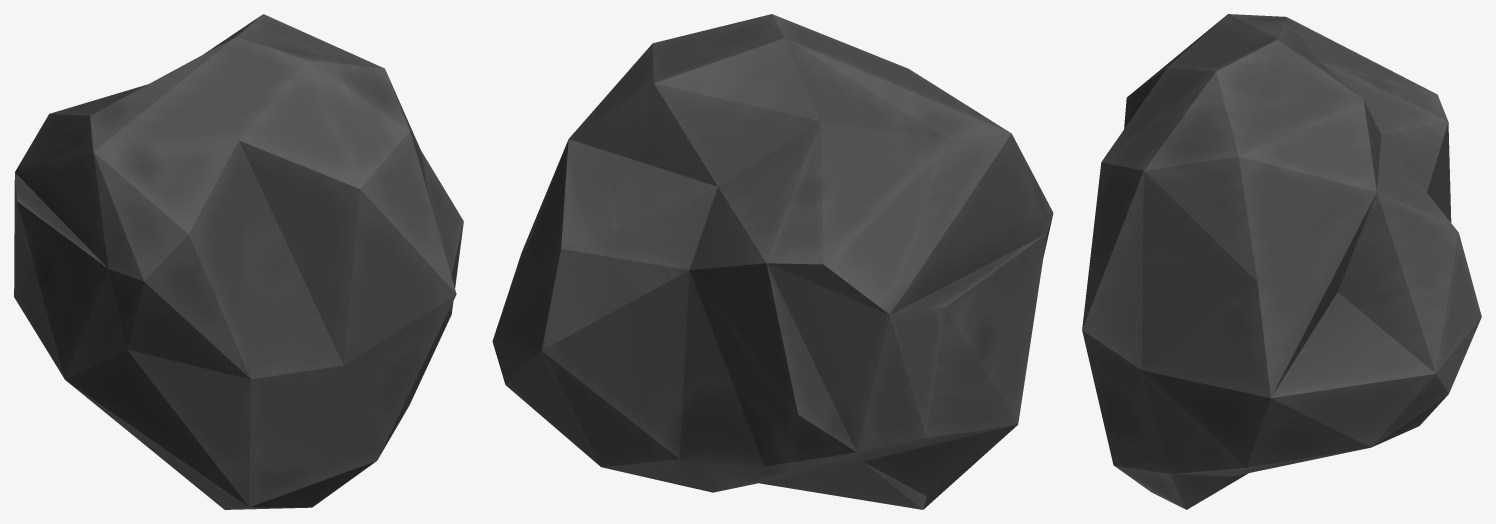
Rendered from rock_9.obj.
3 renders of one model, left to right at view 1: azimuth 30°, elevation 25°; view 2: azimuth 150°, elevation 25°; view 3: azimuth 270°, elevation 25°, orthographic. The views are drawn at different scales.
Parts seen in each view (by area): view 1: Asteroids_Mesh.009; view 2: Asteroids_Mesh.009; view 3: Asteroids_Mesh.009.
Boxes of the visible parts, left/top/right/bottom form: Asteroids_Mesh.009: left=14, top=14, right=463, bottom=509; Asteroids_Mesh.009: left=492, top=14, right=1053, bottom=509; Asteroids_Mesh.009: left=1082, top=14, right=1481, bottom=509.
Bounding box in the file's own units: 0.9795 × 0.9864 × 0.8021.
